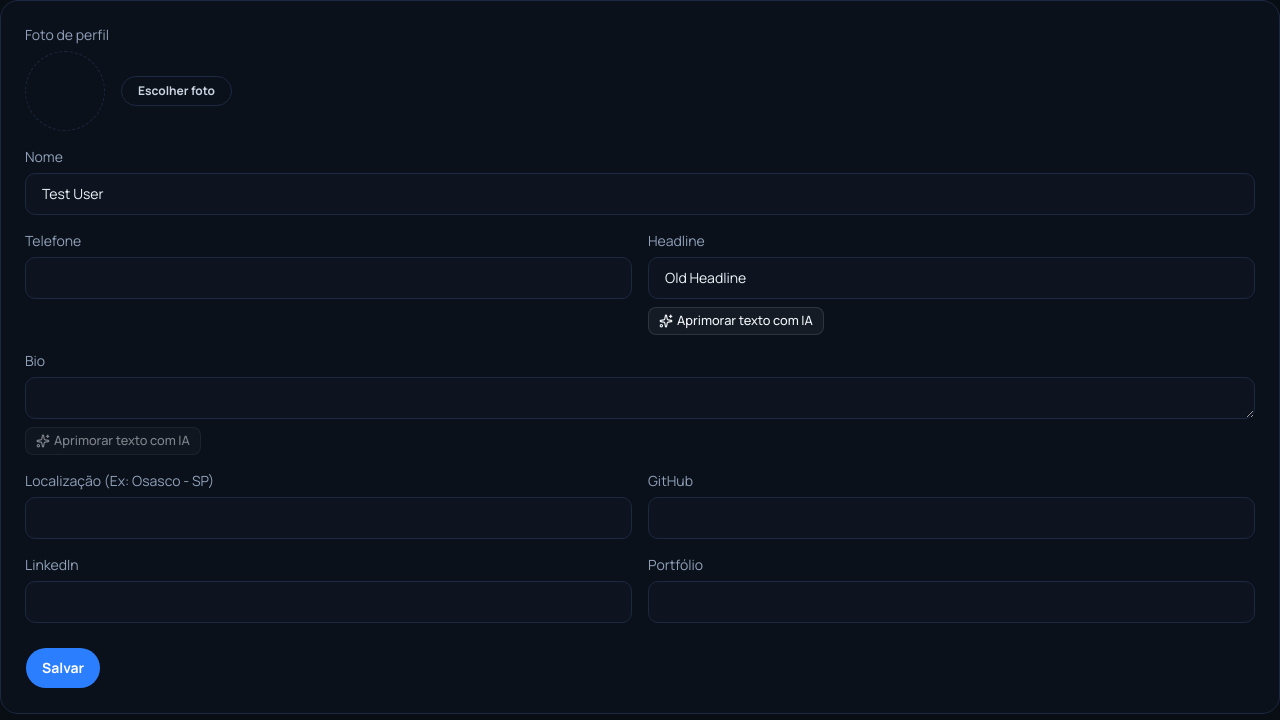
Test case: ProfileForm › applies an AI headline suggestion only after confirmation
Click the button "Aprimorar texto com IA" below "Headline".
click(736, 321)  # box [648,307,824,335]
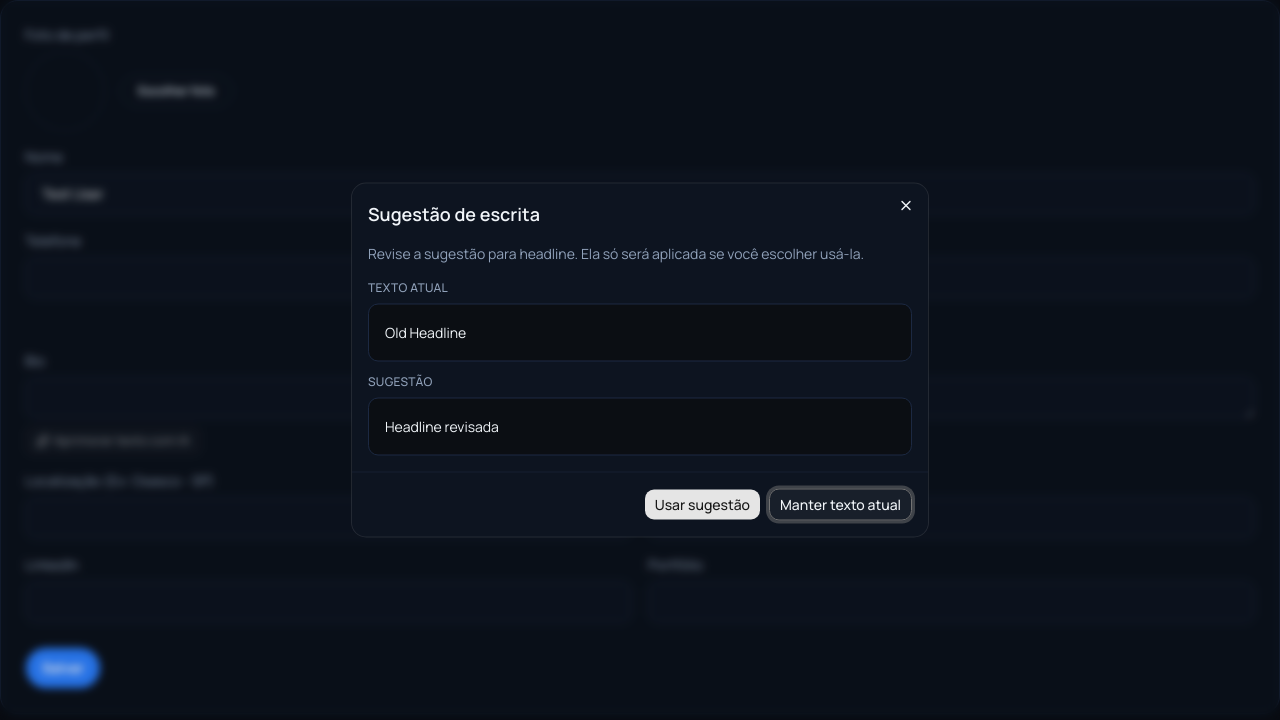
expect the field labelled "Headline" holds "Old Headline": met, box [648,257,1255,299]
expect the text "Headline revisada" is shown: met, box [368,398,912,456]
Click the button "Usar sugestão".
click(702, 504)  # box [644,488,761,520]
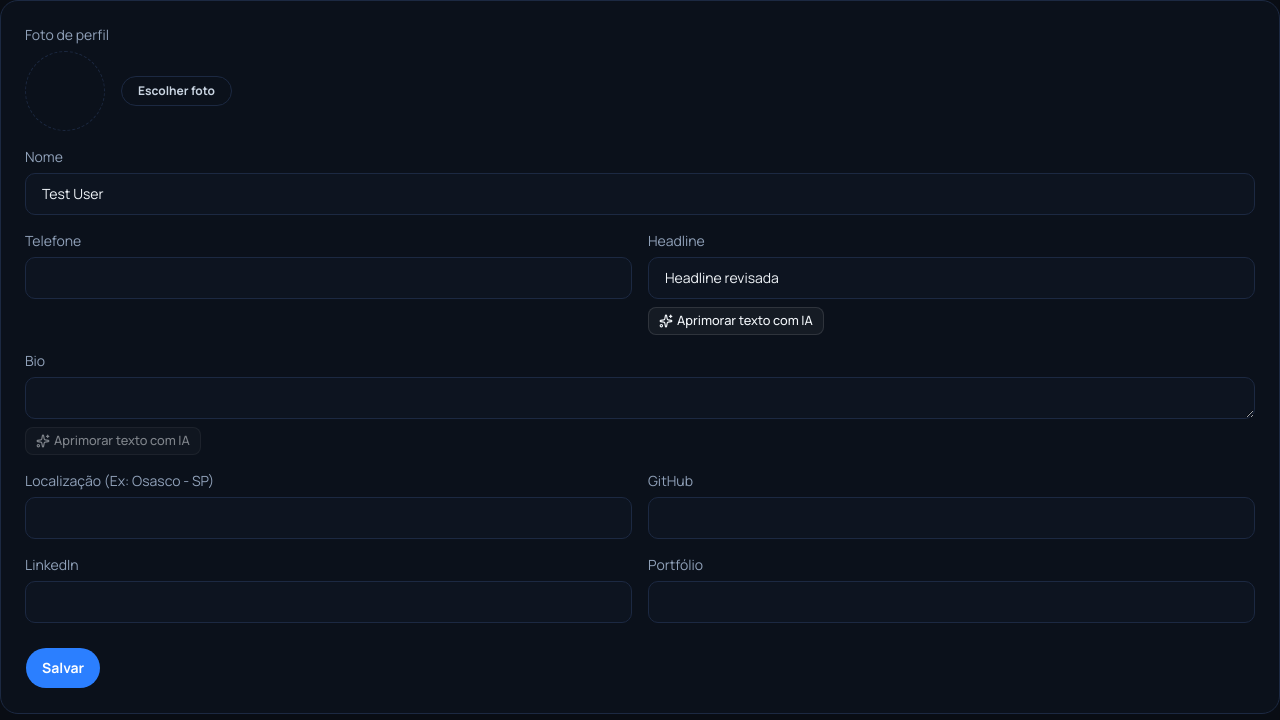
expect the field labelled "Headline" holds "Headline revisada": met, box [648,257,1255,299]
